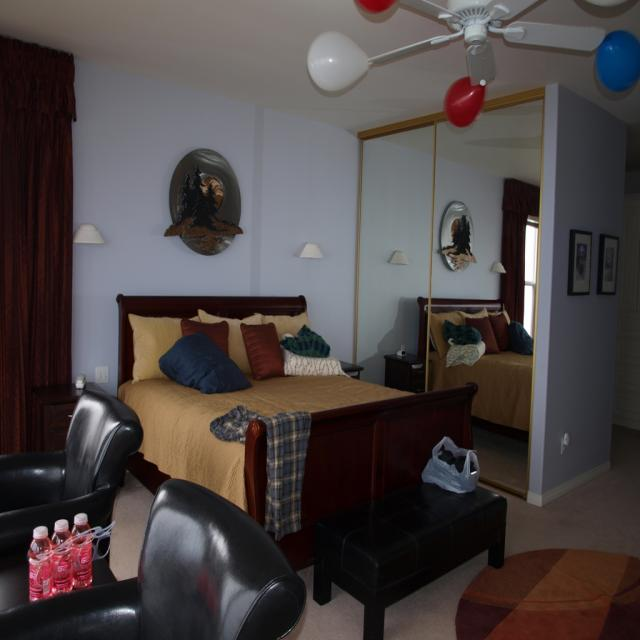Bulb: (367, 0, 602, 87)
